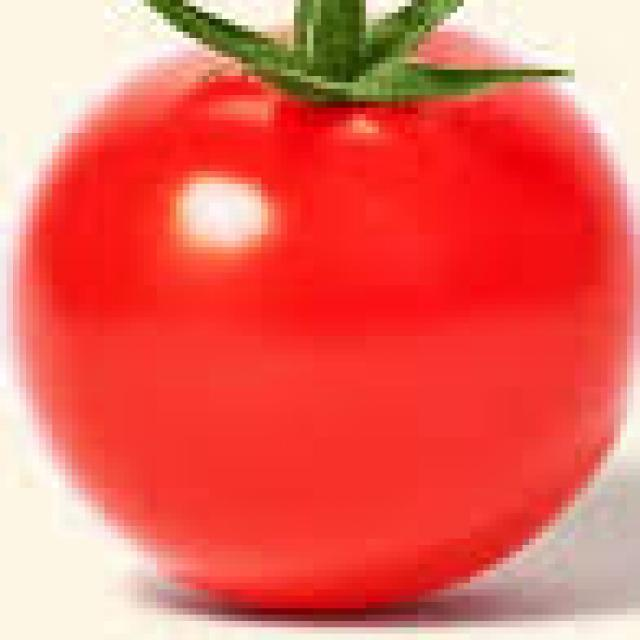Healthy: (18, 37, 640, 613)
